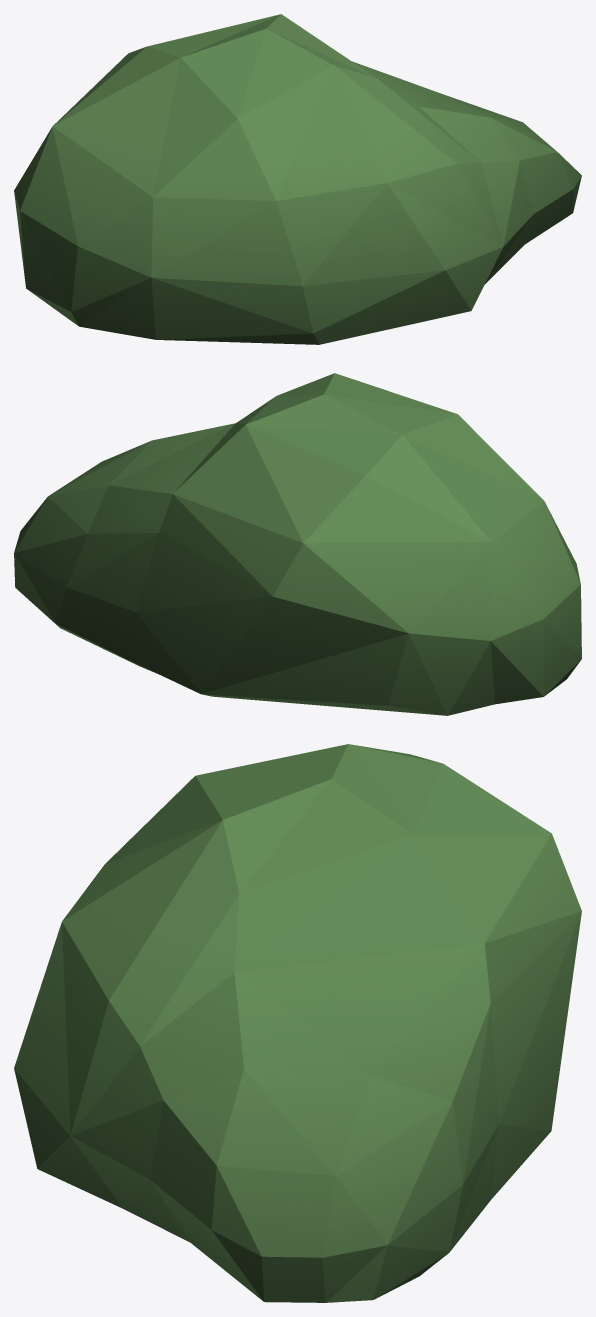
File: Jungle_Bush_B.fbx
3 renders of one model, top to bottom at view 1: azimuth 30°, elevation 25°; view 2: azimuth 150°, elevation 25°; view 3: azimuth 270°, elevation 25°, orthographic. The views are drawn at different scales.
Visible parts, largest first — view 1: Jungle_Bush_B; view 2: Jungle_Bush_B; view 3: Jungle_Bush_B.
Boxes of the visible parts, box(x1,y1,x2,y2) form: Jungle_Bush_B: box(14, 14, 581, 344); Jungle_Bush_B: box(14, 373, 581, 715); Jungle_Bush_B: box(14, 744, 581, 1302).
Bounding box in the file's own units: 2.23 × 1.04 × 1.52.
1 material, 1 textured.
